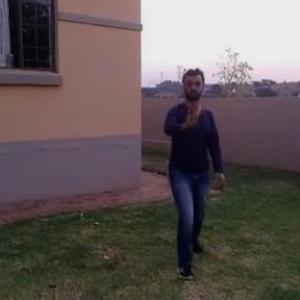takeoff-hand: (182, 99, 203, 132)
